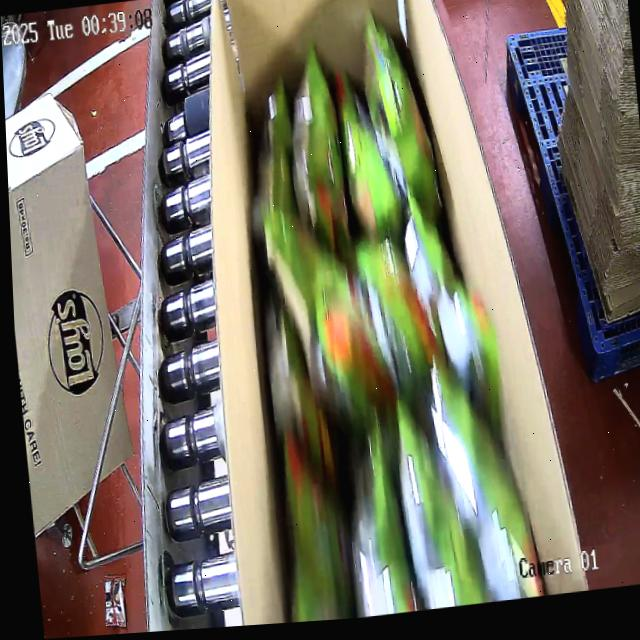YOGURT_HERB: (230, 0, 544, 625)
